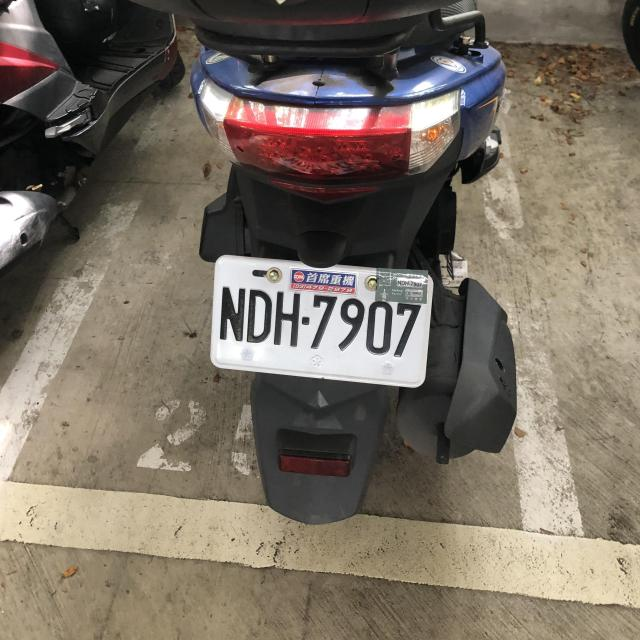W: (207, 254, 432, 384)
